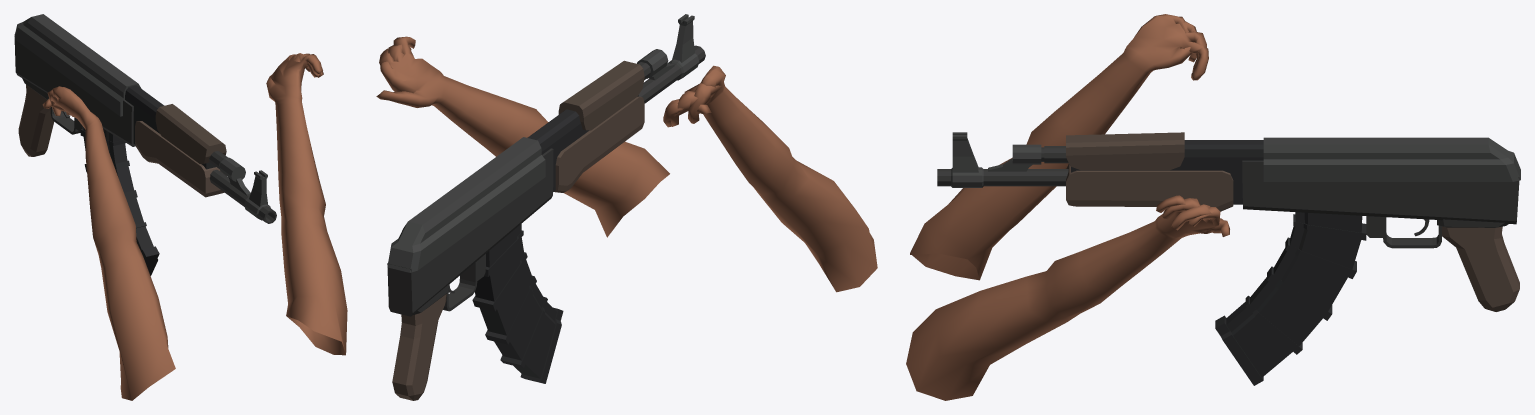
The model's file is rifle.glb.
3 renders of one model, left to right at view 1: azimuth 30°, elevation 25°; view 2: azimuth 150°, elevation 25°; view 3: azimuth 270°, elevation 25°, orthographic. The views are drawn at different scales.
Visible parts, largest first — view 1: posed_fps_arms, AssaultRifle_3_Cube.138; view 2: AssaultRifle_3_Cube.138, posed_fps_arms; view 3: AssaultRifle_3_Cube.138, posed_fps_arms.
Boxes of the visible parts, x1,y1,x2,y2 form: posed_fps_arms: [42, 53, 347, 400]; AssaultRifle_3_Cube.138: [14, 14, 276, 275]; AssaultRifle_3_Cube.138: [387, 14, 705, 400]; posed_fps_arms: [376, 36, 877, 292]; AssaultRifle_3_Cube.138: [937, 132, 1520, 385]; posed_fps_arms: [906, 14, 1229, 400].
Size of the model in its own units: 1.5 by 1.24 by 2.26.
